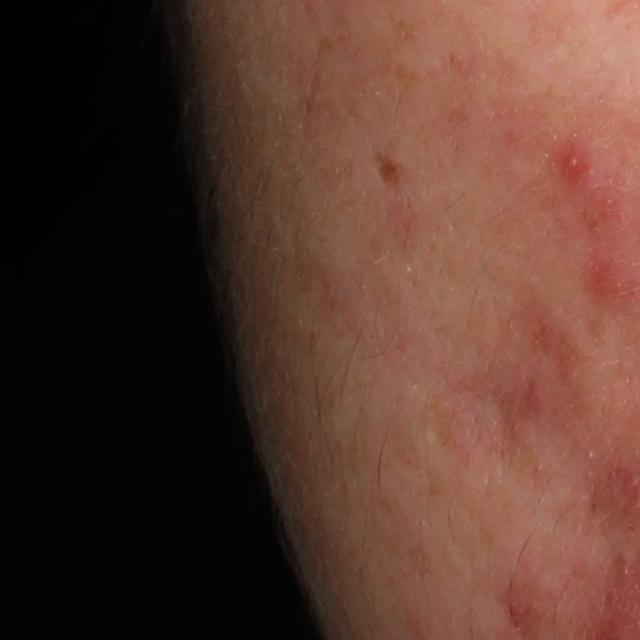papule: (588, 251, 637, 310), (554, 142, 590, 184)
